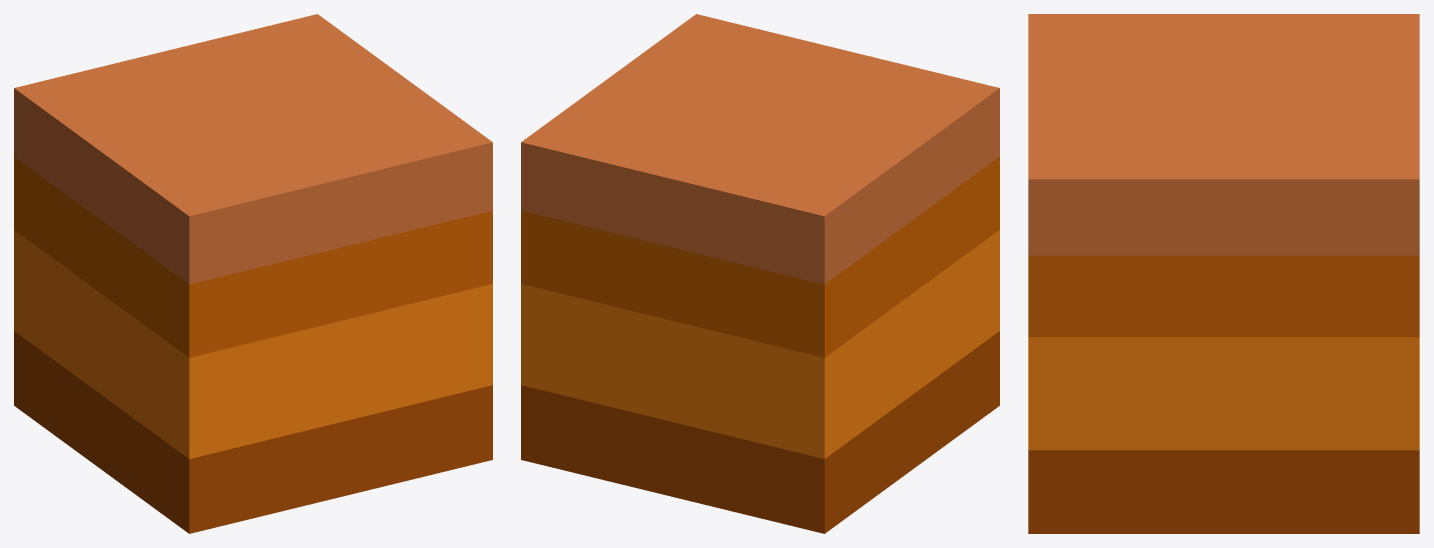
File: Priming_02.fbx
The picture shows the model from 3 angles, left to right: view 1: azimuth 30°, elevation 25°; view 2: azimuth 150°, elevation 25°; view 3: azimuth 270°, elevation 25°; orthographic projection. The views are drawn at different scales.
Parts seen in each view (by area): view 1: Priming_02; view 2: Priming_02; view 3: Priming_02.
Part boxes in pixels (x1,y1,x2,y2): Priming_02: [14, 14, 492, 533]; Priming_02: [521, 14, 999, 533]; Priming_02: [1028, 14, 1419, 533].
Size of the model in its own units: 100 by 100 by 100.
